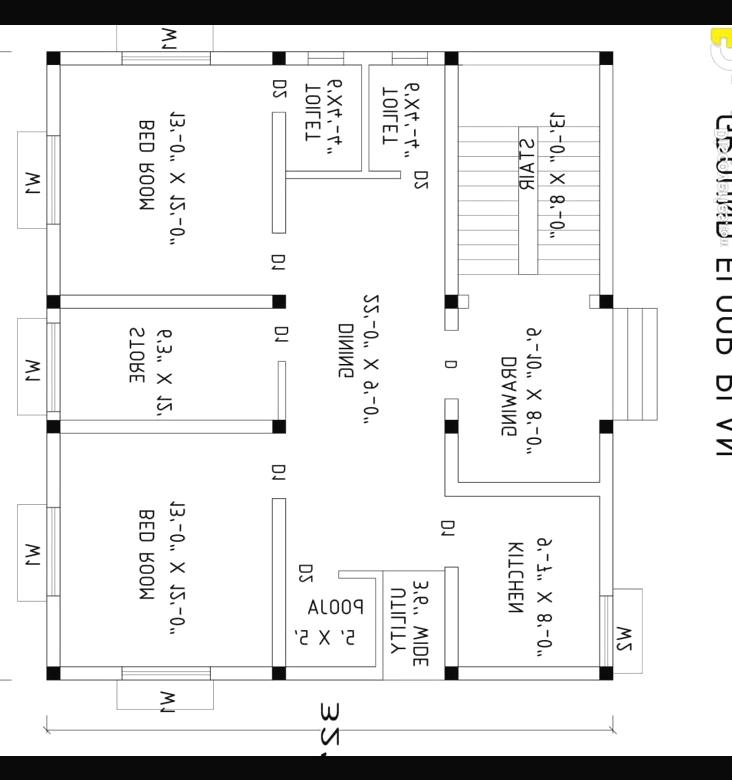Blueprint: (38, 41, 623, 686)
wall: (442, 62, 462, 298), (597, 60, 616, 296), (56, 291, 275, 311), (59, 416, 276, 436), (596, 429, 616, 599), (458, 477, 600, 500), (270, 494, 288, 670), (455, 662, 602, 682), (457, 48, 601, 66), (440, 562, 462, 668), (270, 109, 288, 236), (283, 664, 387, 682), (283, 166, 402, 181), (42, 62, 64, 141), (43, 430, 64, 509), (358, 60, 372, 172), (44, 220, 64, 296), (42, 592, 62, 668), (57, 662, 124, 682), (208, 48, 275, 68), (442, 429, 461, 498), (372, 574, 385, 670), (56, 49, 124, 67), (207, 663, 274, 680), (340, 48, 394, 66), (275, 358, 288, 422), (334, 566, 386, 581), (442, 395, 462, 422), (442, 308, 460, 334), (284, 49, 311, 66), (425, 48, 446, 68), (44, 306, 63, 326)
